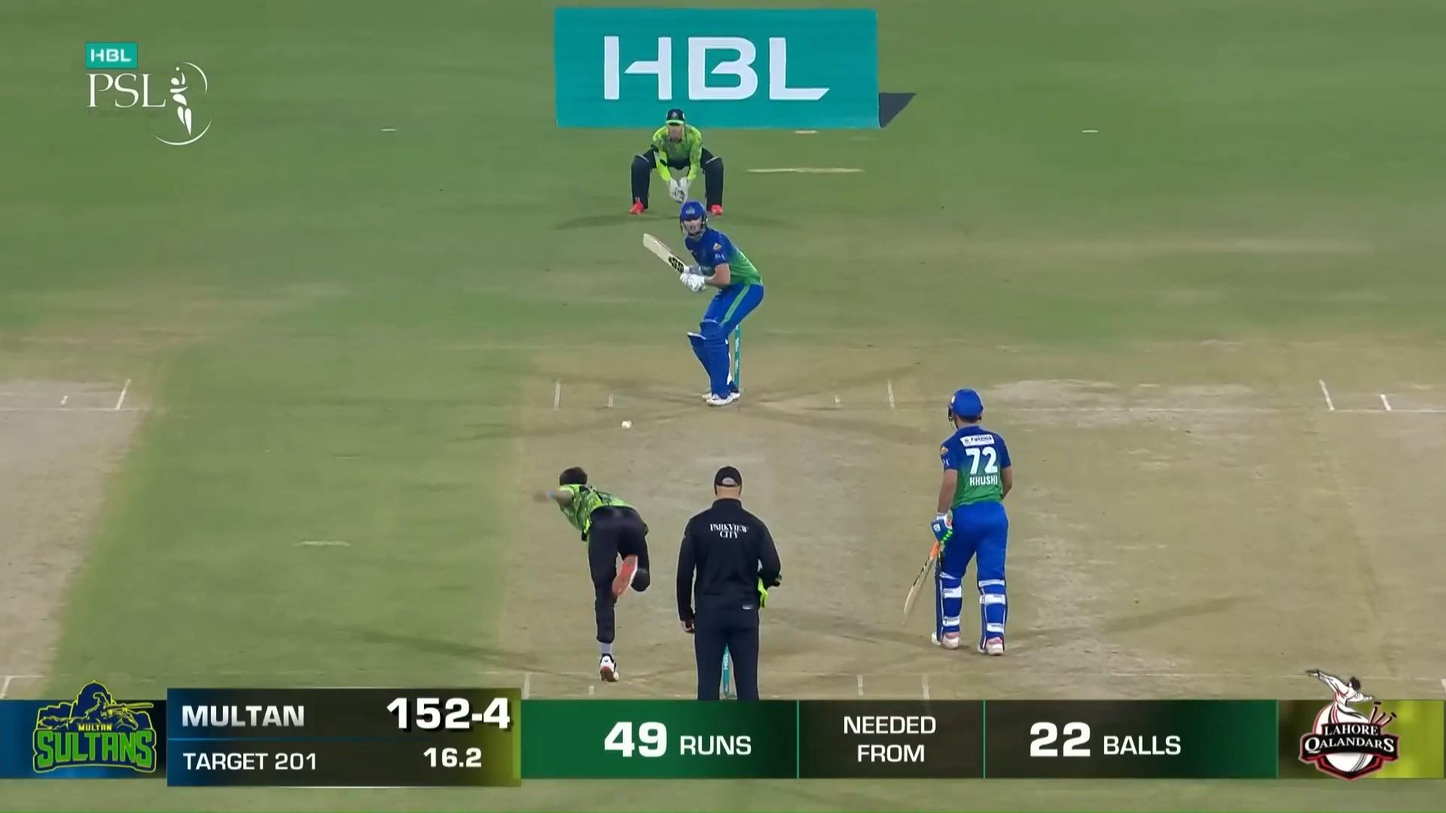batsman: (642, 201, 764, 407)
